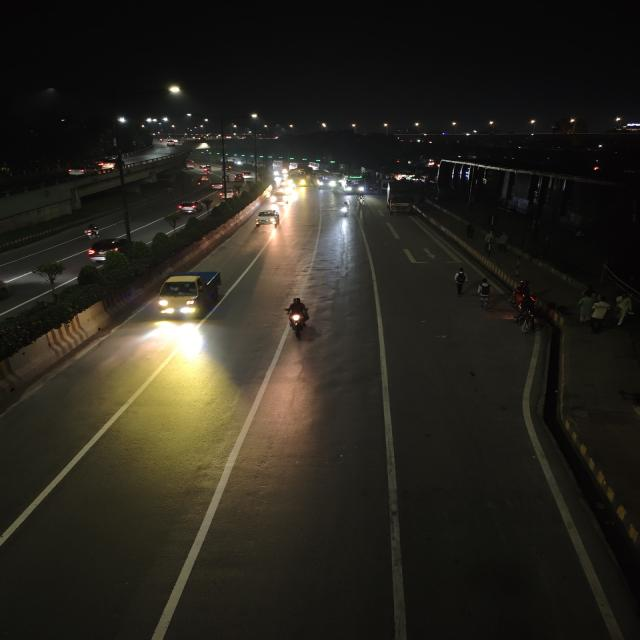bicycle: (356, 191, 366, 203)
bus: (341, 171, 367, 195), (311, 166, 336, 190), (286, 169, 306, 187)
car: (84, 237, 132, 261), (252, 208, 282, 230), (176, 199, 205, 215), (96, 157, 119, 171), (65, 165, 90, 177), (232, 172, 254, 182), (270, 192, 288, 204), (221, 188, 237, 200), (211, 181, 224, 191)
motorcycle: (508, 280, 542, 333), (279, 294, 315, 342), (81, 222, 102, 240), (337, 200, 351, 219), (196, 176, 208, 188)
pedestrian: (587, 294, 611, 334), (611, 292, 636, 328), (576, 287, 598, 324), (472, 278, 497, 310), (449, 266, 470, 296)
pickup_van: (153, 267, 228, 323)
truck: (383, 180, 416, 216)
